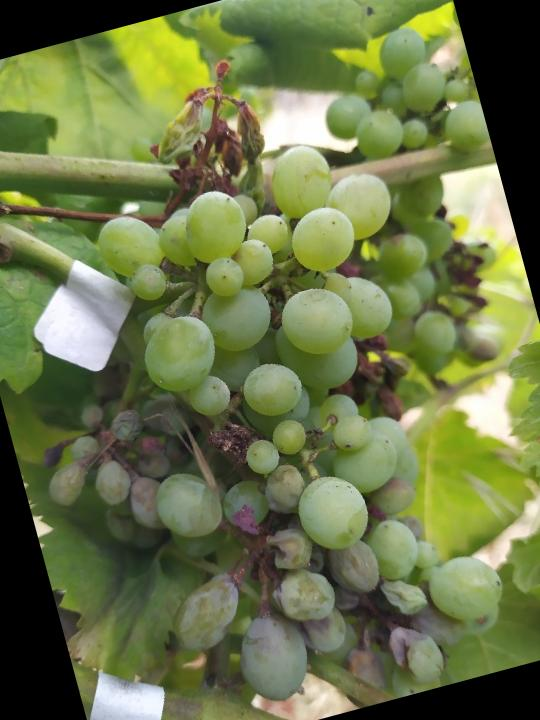grape: (0, 121, 530, 720)
